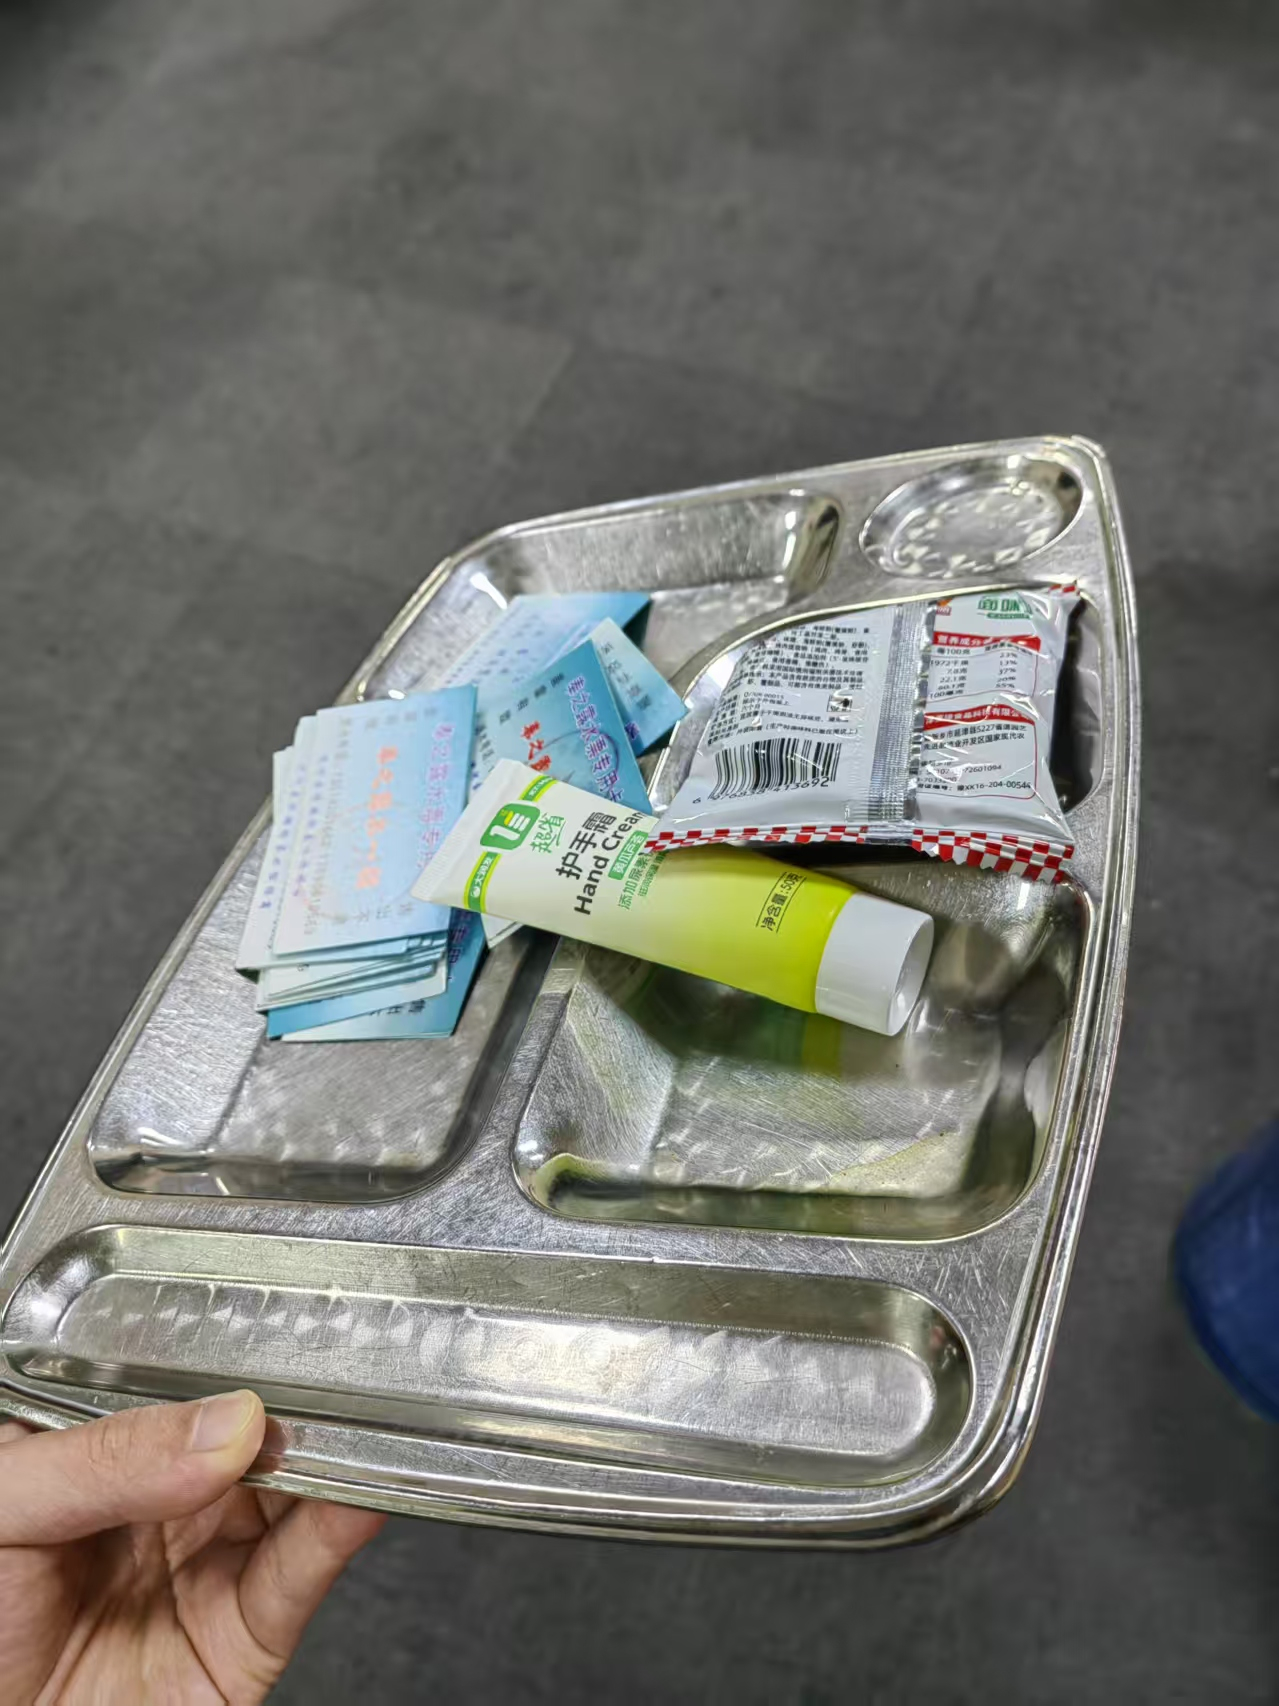moderate: (234, 580, 1080, 1031)
plate: (1, 439, 1146, 1549)
